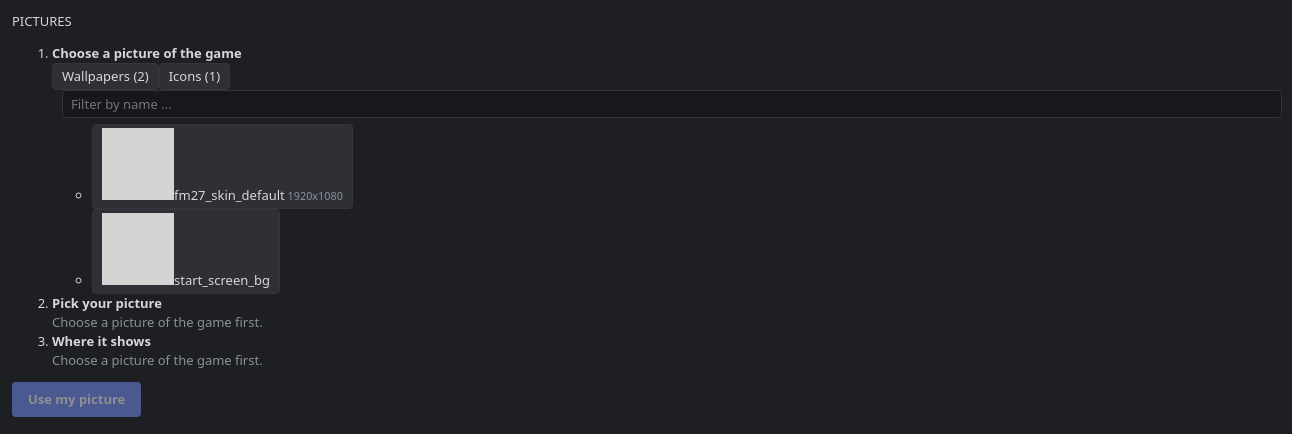
Scenario: pictures in three steps › offers only what a native skin can replace, and says how many are left out and why
The image size is (1292, 434).
Check: the button "Wallpapers (2)" is shown, box [52,63,159,90]
Check: the text "fm27_skin_default" is shown, box [174,186,285,204]
Click the button "Icons (1)" at (194, 76), box [159,63,230,90]
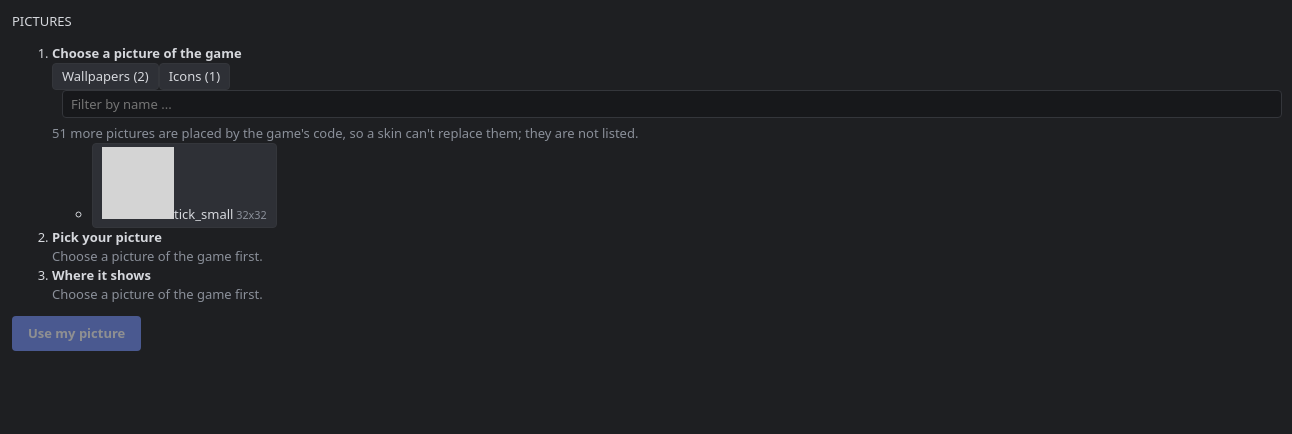
Check: the text "tick_small" is shown, box [174,205,233,223]
Check: the text "51 more pictures are placed by the game's code" is shown, box [52,124,638,142]
